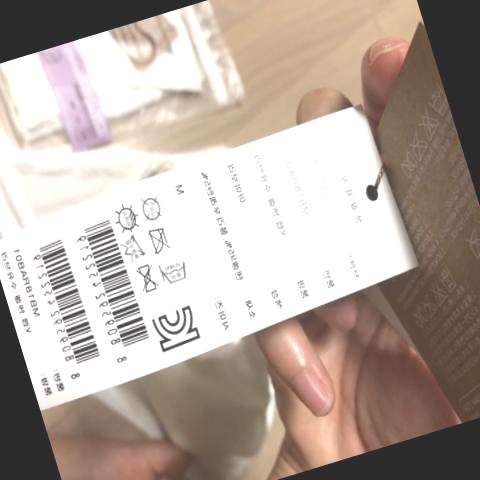DN_dry_clean: (138, 192, 166, 223)
DN_iron: (144, 225, 173, 255)
DN_wring: (130, 265, 157, 293)
dry_flat_in_shade: (113, 200, 138, 229)
hand_wash: (155, 258, 189, 285)
non_chlorine_bleach: (117, 235, 141, 261)
